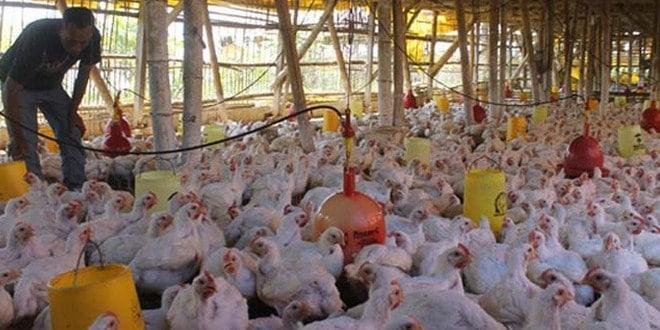chicken: (353, 259, 478, 330), (250, 233, 345, 312), (15, 223, 94, 308), (134, 203, 208, 287), (578, 266, 660, 330), (171, 275, 248, 328), (487, 243, 537, 316), (106, 209, 174, 258), (415, 243, 475, 288), (522, 280, 574, 330), (286, 226, 348, 267), (201, 247, 258, 285), (0, 217, 38, 273), (92, 194, 129, 245), (278, 203, 314, 246)
